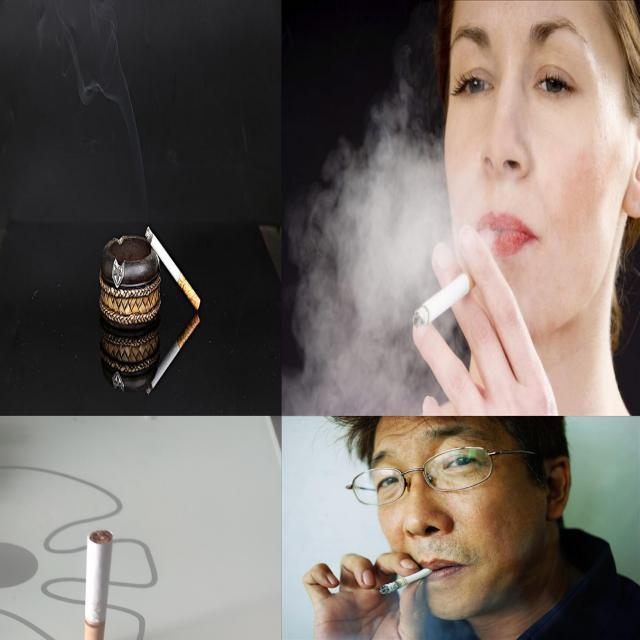cigarette: (138, 313, 206, 396), (144, 220, 202, 311), (408, 266, 482, 328), (82, 529, 116, 640), (378, 565, 442, 596)
